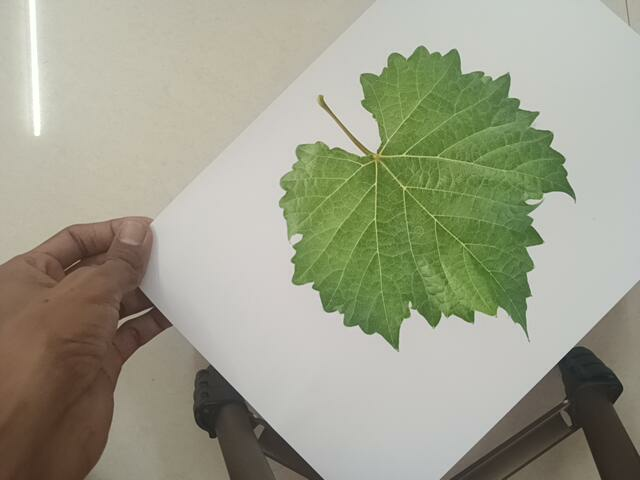Grape_Healthy: (276, 45, 587, 349)
